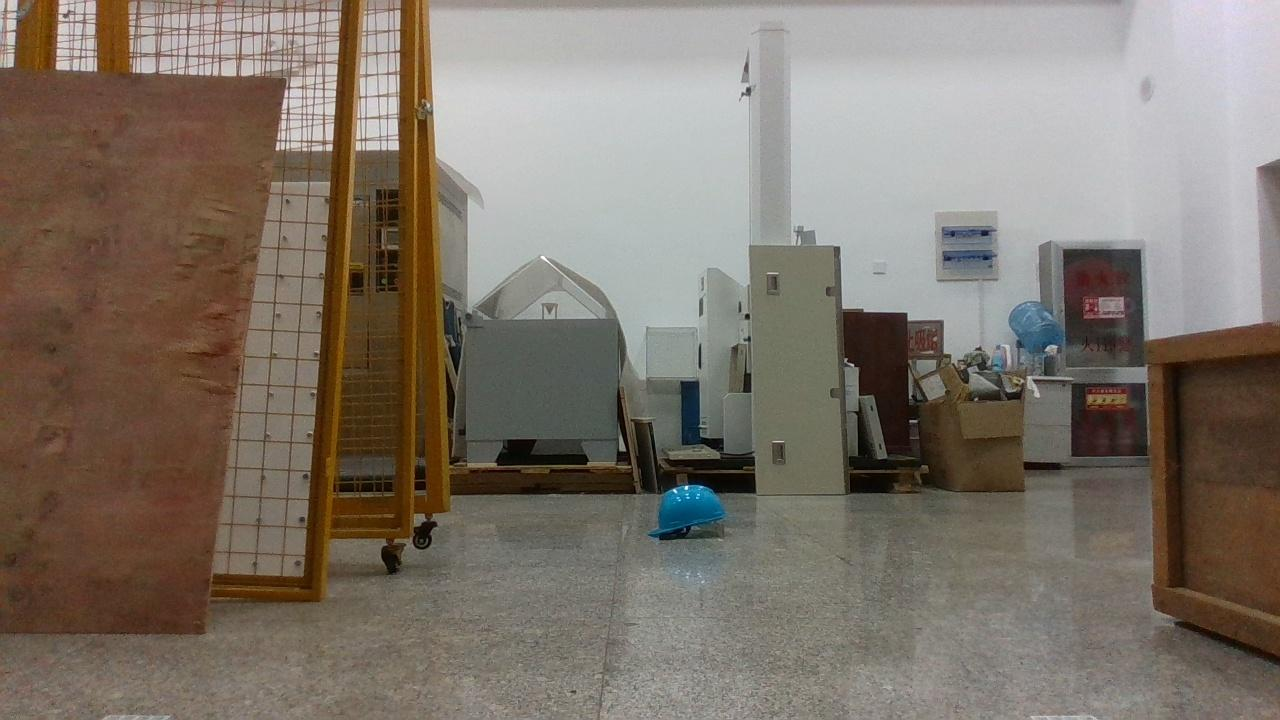safehat: (648, 485, 728, 538)
